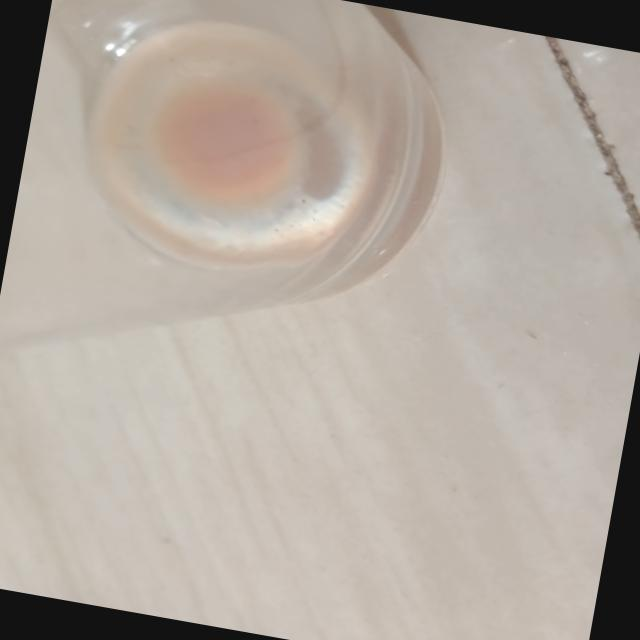glass-VX4N: (0, 0, 468, 431)
